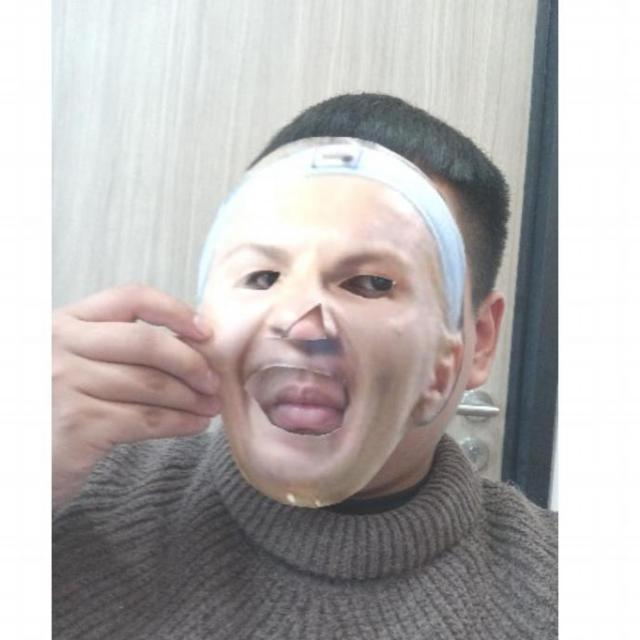mask: (188, 130, 480, 512)
